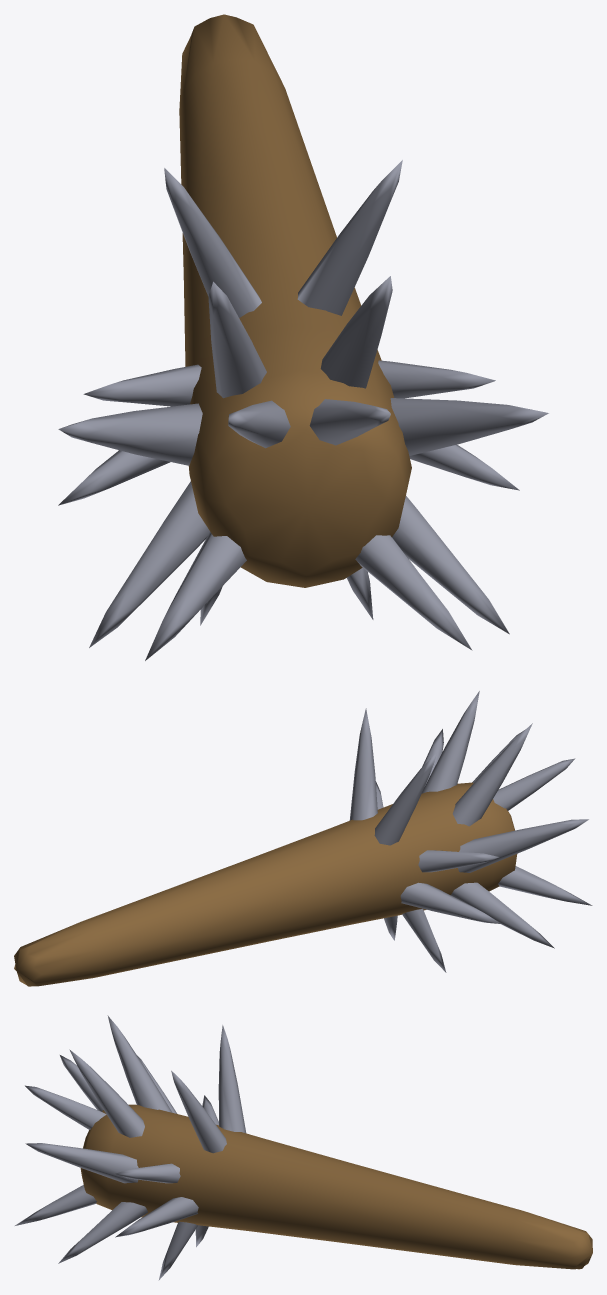
Rendered from Orc_Weapon.001.fbx.
The picture shows the model from 3 angles, top to bottom: view 1: azimuth 30°, elevation 25°; view 2: azimuth 150°, elevation 25°; view 3: azimuth 270°, elevation 25°; orthographic projection. The views are drawn at different scales.
Parts seen in each view (by area): view 1: Orc_Weapon.001; view 2: Orc_Weapon.001; view 3: Orc_Weapon.001.
Boxes of the visible parts, box(x1,y1,x2,y2) form: Orc_Weapon.001: box(58, 14, 548, 660); Orc_Weapon.001: box(14, 691, 592, 986); Orc_Weapon.001: box(15, 1015, 592, 1280).
Bounding box in the file's own units: 95.85 × 62.53 × 149.
